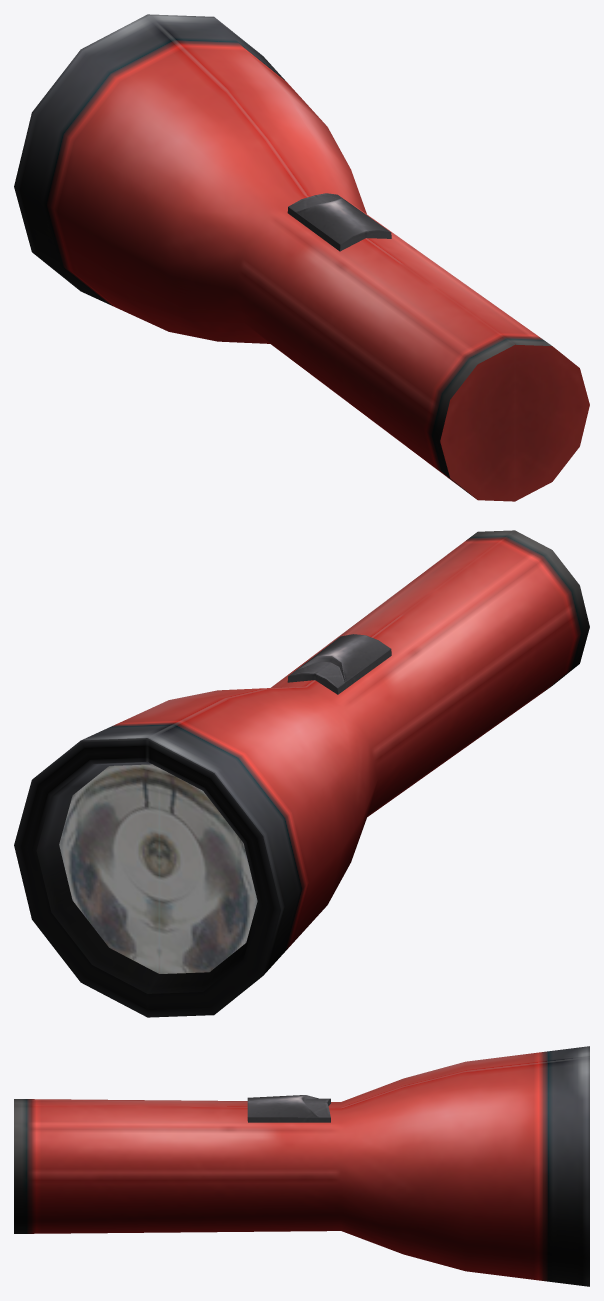
The model's file is ZhiBanShi_01_shoudiantong_01_uv2.FBX.
The picture shows the model from 3 angles, top to bottom: view 1: azimuth 30°, elevation 25°; view 2: azimuth 150°, elevation 25°; view 3: azimuth 270°, elevation 25°; orthographic projection. The views are drawn at different scales.
Parts seen in each view (by area): view 1: ZhiBanShi_shoudiantong_01; view 2: ZhiBanShi_shoudiantong_01; view 3: ZhiBanShi_shoudiantong_01.
Boxes of the visible parts, x1,y1,x2,y2 form: ZhiBanShi_shoudiantong_01: [14, 14, 589, 501]; ZhiBanShi_shoudiantong_01: [14, 530, 589, 1017]; ZhiBanShi_shoudiantong_01: [14, 1046, 589, 1286].
Bounding box in the file's own units: 63.25 × 63.25 × 151.
